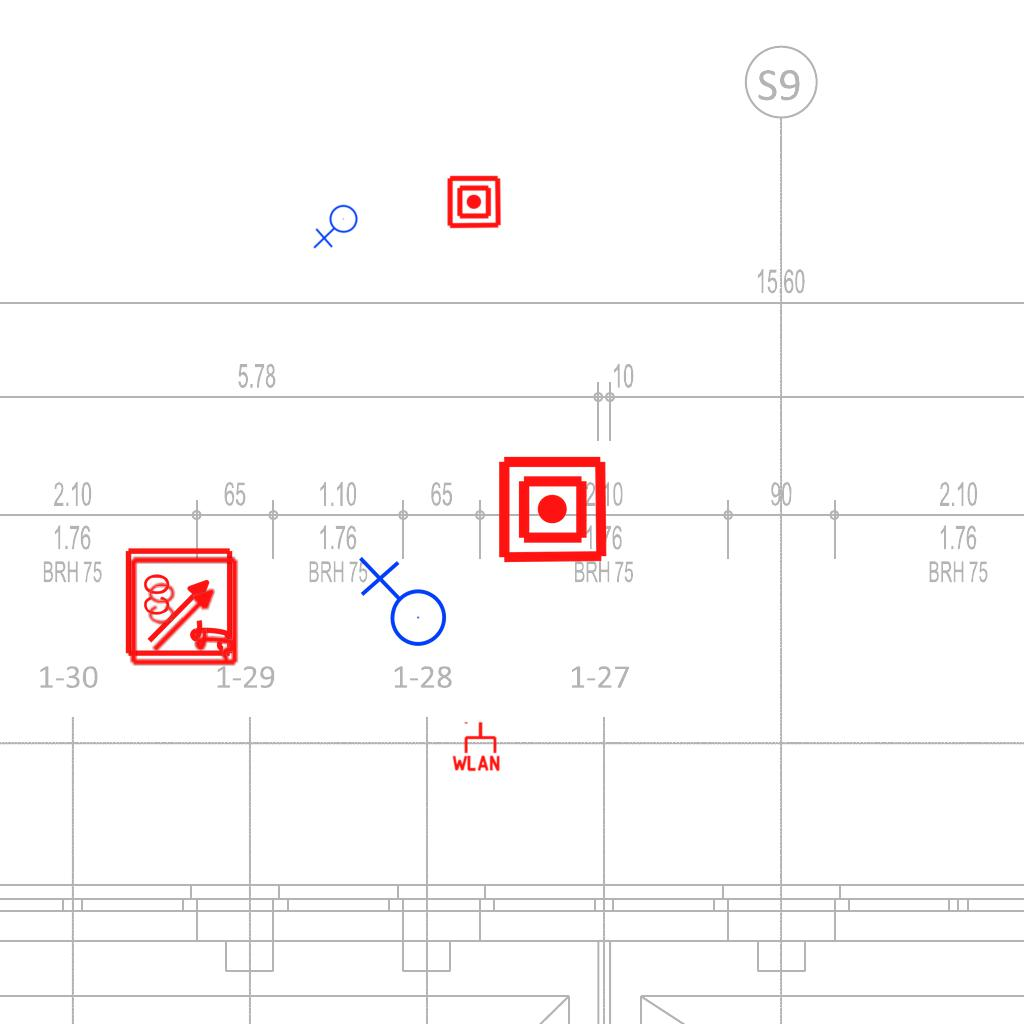Elektroanschluss_allgemein_230V_Geraeteanschlussdose_230V: (354, 556, 448, 655), (313, 204, 362, 251)
NAM-Nichtautomatischer_Melder: (496, 453, 609, 566), (446, 174, 502, 230)
ROA_Rauchmelder_optisch_mit_Signalgeber_(Sockelsirene): (124, 545, 237, 658), (129, 554, 242, 667)
WLAN: (450, 720, 502, 772)
